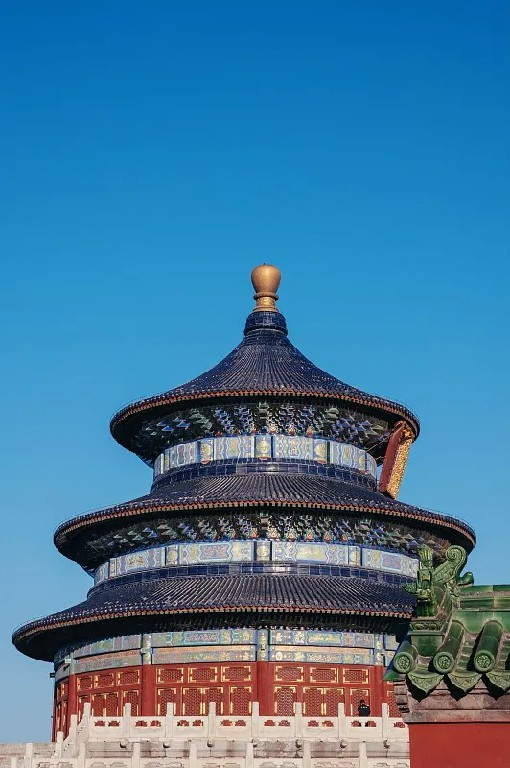Heaven: (13, 265, 476, 742)
